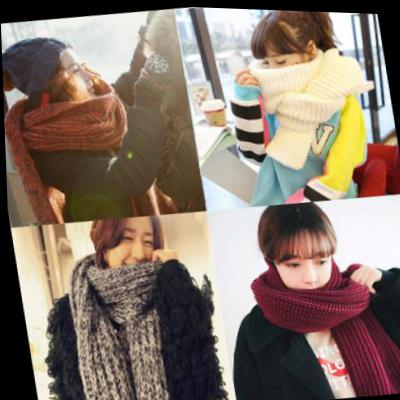NONE: (96, 216, 162, 283), (49, 53, 102, 109)
OK: (255, 36, 312, 94)
WRONG: (268, 237, 335, 302)
